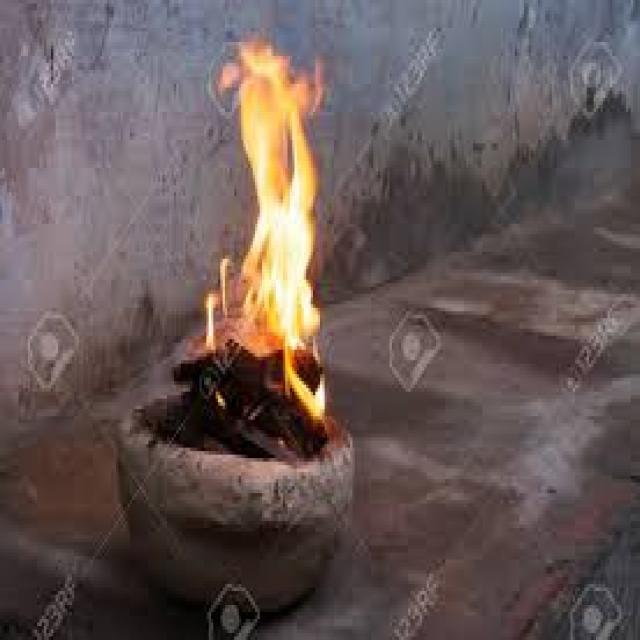fire: (205, 38, 288, 355), (288, 52, 326, 420)
